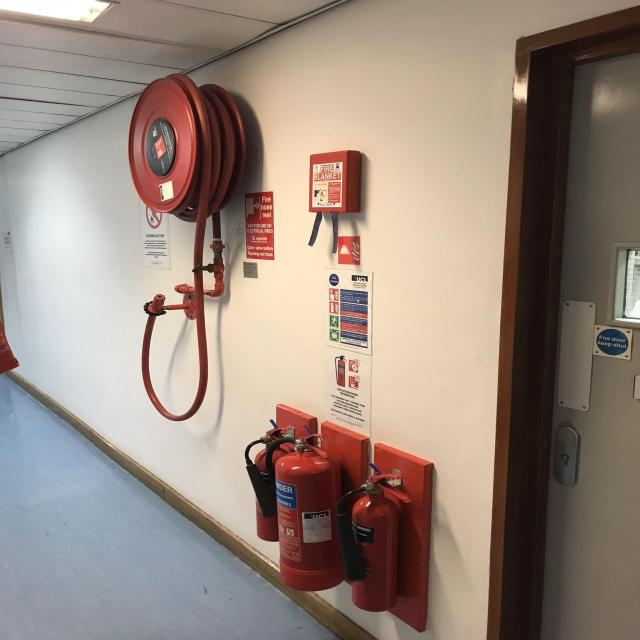fire_extinguisher: (328, 463, 414, 614), (269, 432, 349, 592), (237, 419, 311, 544)
